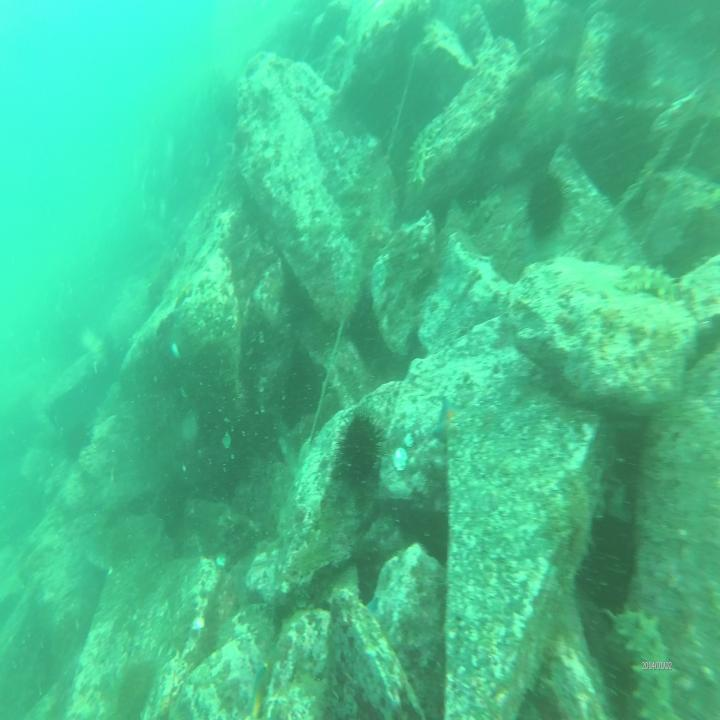echinus: (327, 407, 394, 500), (599, 28, 660, 106), (518, 166, 570, 243)
holothurian: (605, 595, 676, 720), (620, 253, 686, 307)
starfish: (429, 390, 462, 454), (239, 655, 270, 720)
